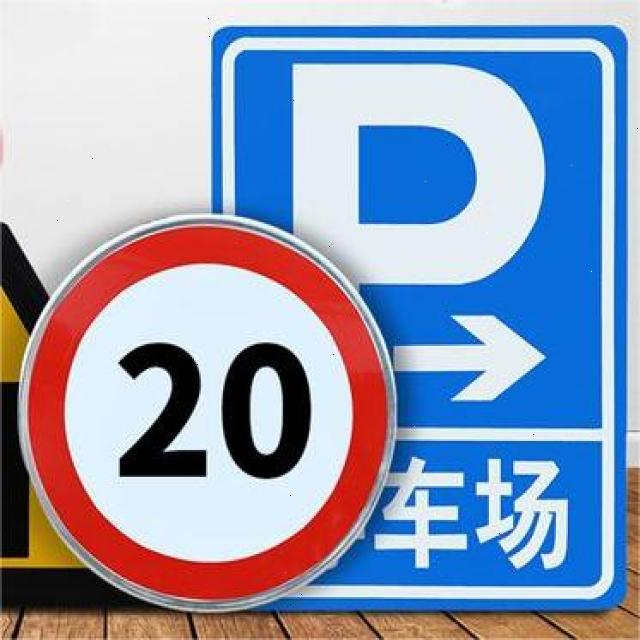speed limit 20: (15, 214, 399, 616)
